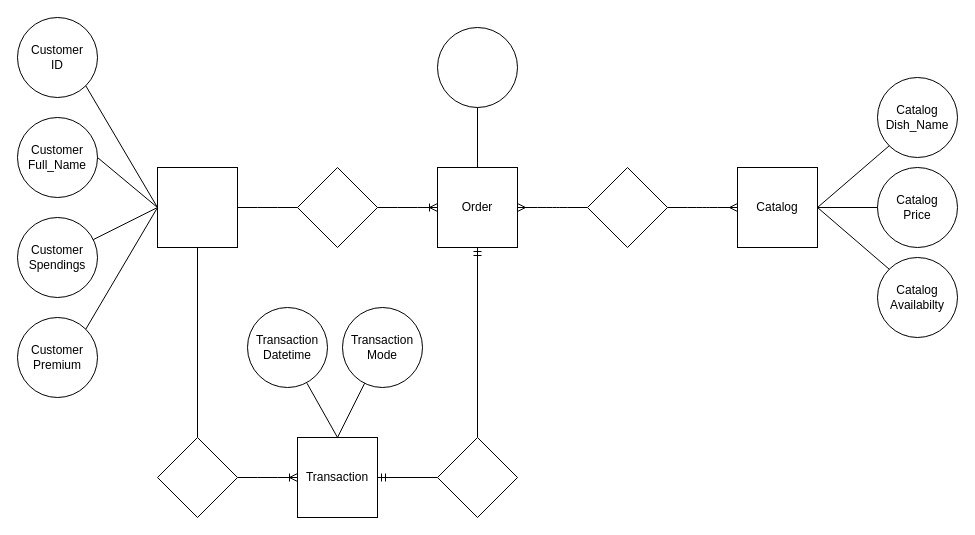
This 975x535 diagram has some shape labels left out. Each missing label, with the centre of its shape:
Consist of: (627,207)
Customer: (197,207)
Executes: (197,477)
Makes: (337,207)
Order Type: (477,67)
Requires: (477,477)
